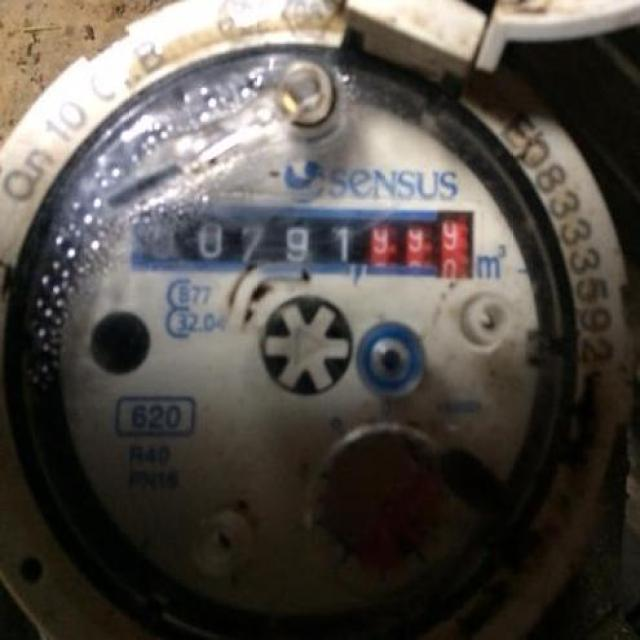gaz_meter: (5, 39, 610, 640)
indication: (132, 203, 475, 277)
